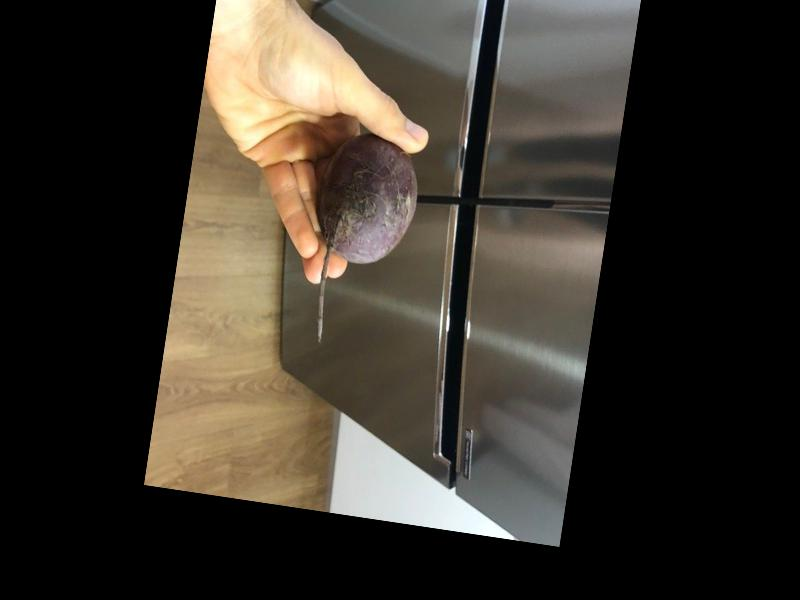Beet: (297, 128, 426, 354)
